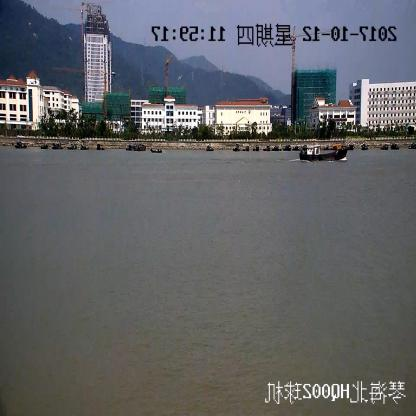Fishing Boat: (301, 143, 348, 160)
